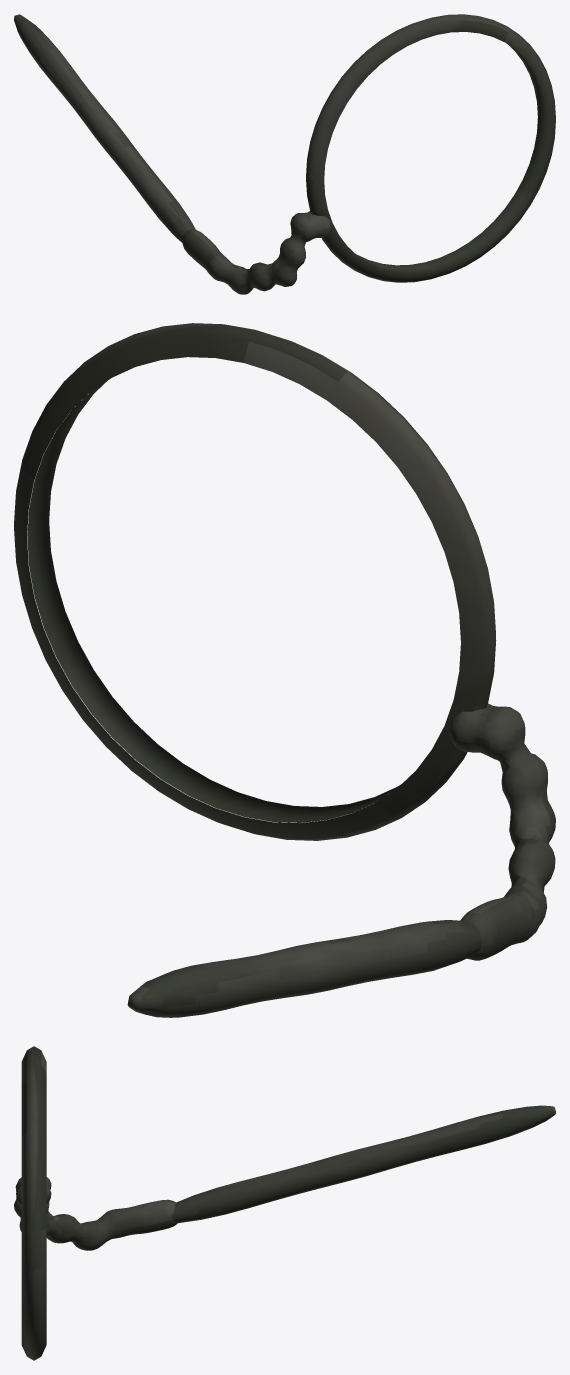
The picture shows the model from 3 angles, top to bottom: view 1: azimuth 30°, elevation 25°; view 2: azimuth 150°, elevation 25°; view 3: azimuth 270°, elevation 25°; orthographic projection. The views are drawn at different scales.
Parts seen in each view (by area): view 1: Torus.005, Mball.000, Mball.001; view 2: Torus.005, Mball.000, Mball.001; view 3: Mball.000, Torus.005, Mball.001.
Boxes of the visible parts, x1,y1,x2,y2 form: Torus.005: [306, 14, 555, 282]; Mball.000: [14, 14, 195, 242]; Mball.001: [182, 211, 331, 294]; Torus.005: [14, 323, 496, 840]; Mball.000: [127, 920, 482, 1017]; Mball.001: [449, 703, 555, 960]; Mball.000: [173, 1105, 555, 1223]; Torus.005: [21, 1046, 46, 1360]; Mball.001: [14, 1177, 177, 1250].
Bounding box in the file's own units: 0.0877 × 0.0704 × 0.1212.
1 material, 1 textured.
